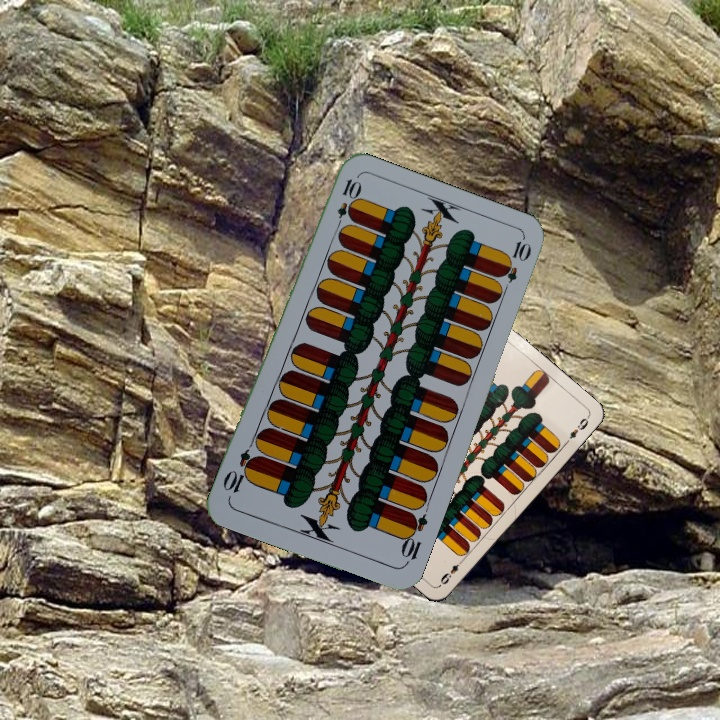E10: (396, 509, 430, 568), (331, 175, 362, 233)
E9: (436, 555, 467, 588)
